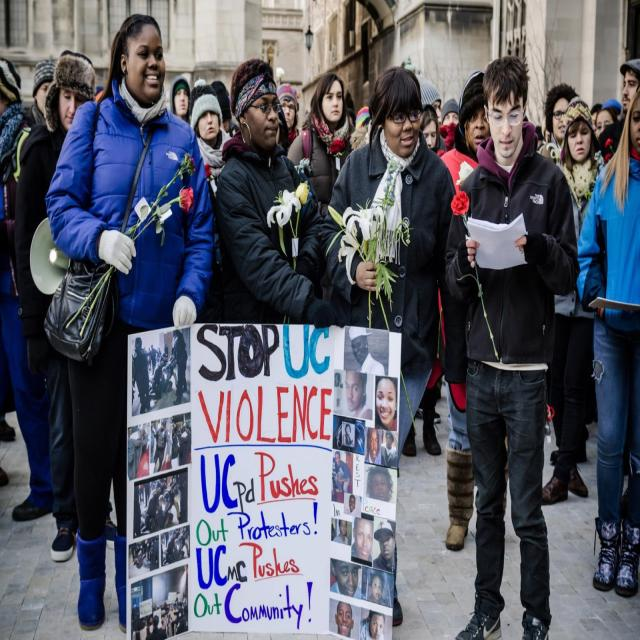body: (43, 12, 218, 639), (317, 61, 472, 629), (440, 51, 583, 640), (13, 50, 120, 563), (213, 57, 348, 329), (437, 69, 512, 556), (572, 85, 640, 601), (540, 96, 606, 507), (329, 326, 402, 640), (126, 329, 192, 640), (403, 103, 454, 458), (535, 56, 640, 166), (286, 71, 356, 218), (276, 82, 378, 160), (585, 363, 635, 507), (186, 77, 234, 221), (28, 56, 108, 119), (417, 70, 467, 155), (206, 73, 244, 149), (24, 57, 57, 127), (410, 372, 451, 424), (170, 74, 193, 128), (0, 413, 16, 486)
